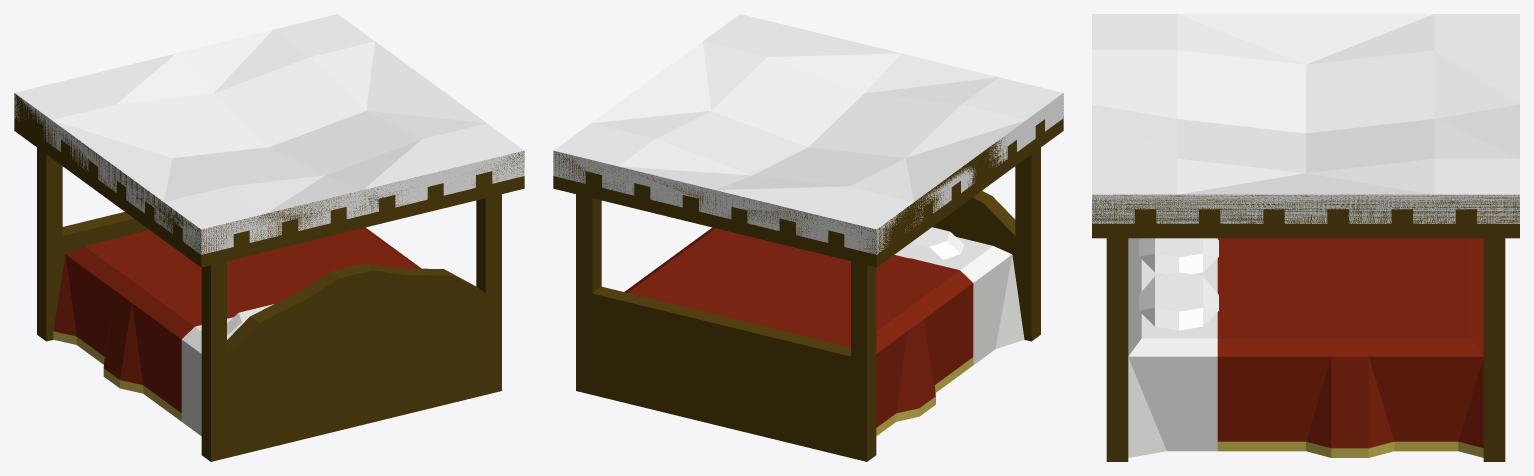
File: obj_bed_13_0.obj
3 renders of one model, left to right at view 1: azimuth 30°, elevation 25°; view 2: azimuth 150°, elevation 25°; view 3: azimuth 270°, elevation 25°, orthographic. The views are drawn at different scales.
Bounding box in the file's own units: 2.5 × 1.78 × 2.5.
